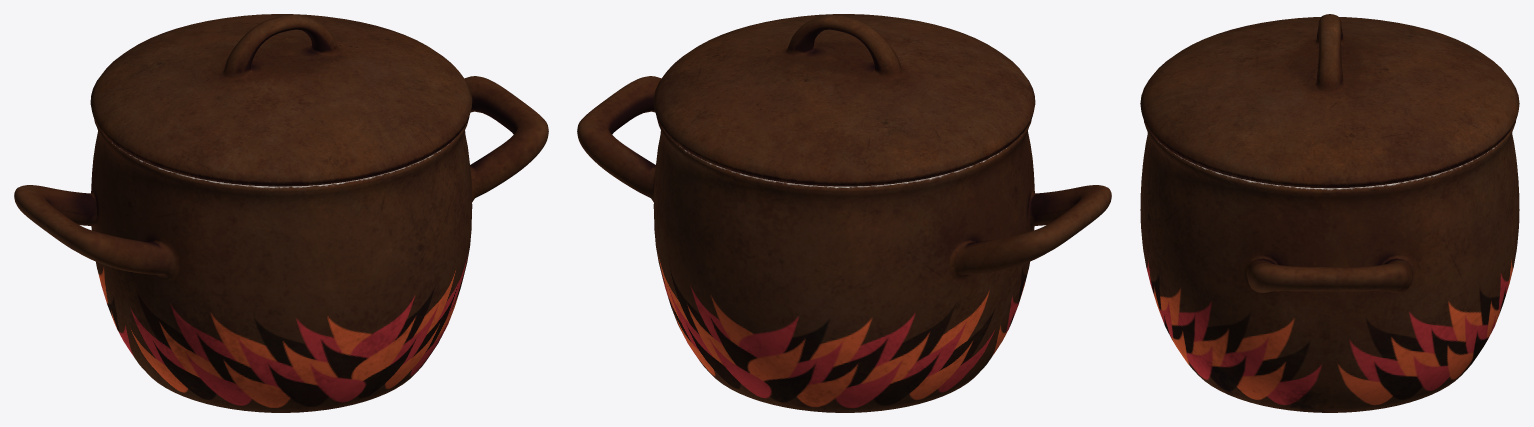
File: pot_enamel_01_4k.gltf
The picture shows the model from 3 angles, left to right: view 1: azimuth 30°, elevation 25°; view 2: azimuth 150°, elevation 25°; view 3: azimuth 270°, elevation 25°; orthographic projection.
Visible parts, largest first — view 1: pot_enamel_01_base, pot_enamel_01_lid; view 2: pot_enamel_01_base, pot_enamel_01_lid; view 3: pot_enamel_01_base, pot_enamel_01_lid.
Part boxes in pixels (x1,y1,x2,y2): pot_enamel_01_base: (14, 76, 548, 412); pot_enamel_01_lid: (90, 14, 472, 186); pot_enamel_01_base: (577, 76, 1111, 412); pot_enamel_01_lid: (653, 14, 1035, 186); pot_enamel_01_base: (1140, 121, 1519, 412); pot_enamel_01_lid: (1140, 14, 1519, 188).
Bounding box in the file's own units: 0.2629 × 0.1783 × 0.1805.
Materials: 1 (1 with a texture image).
